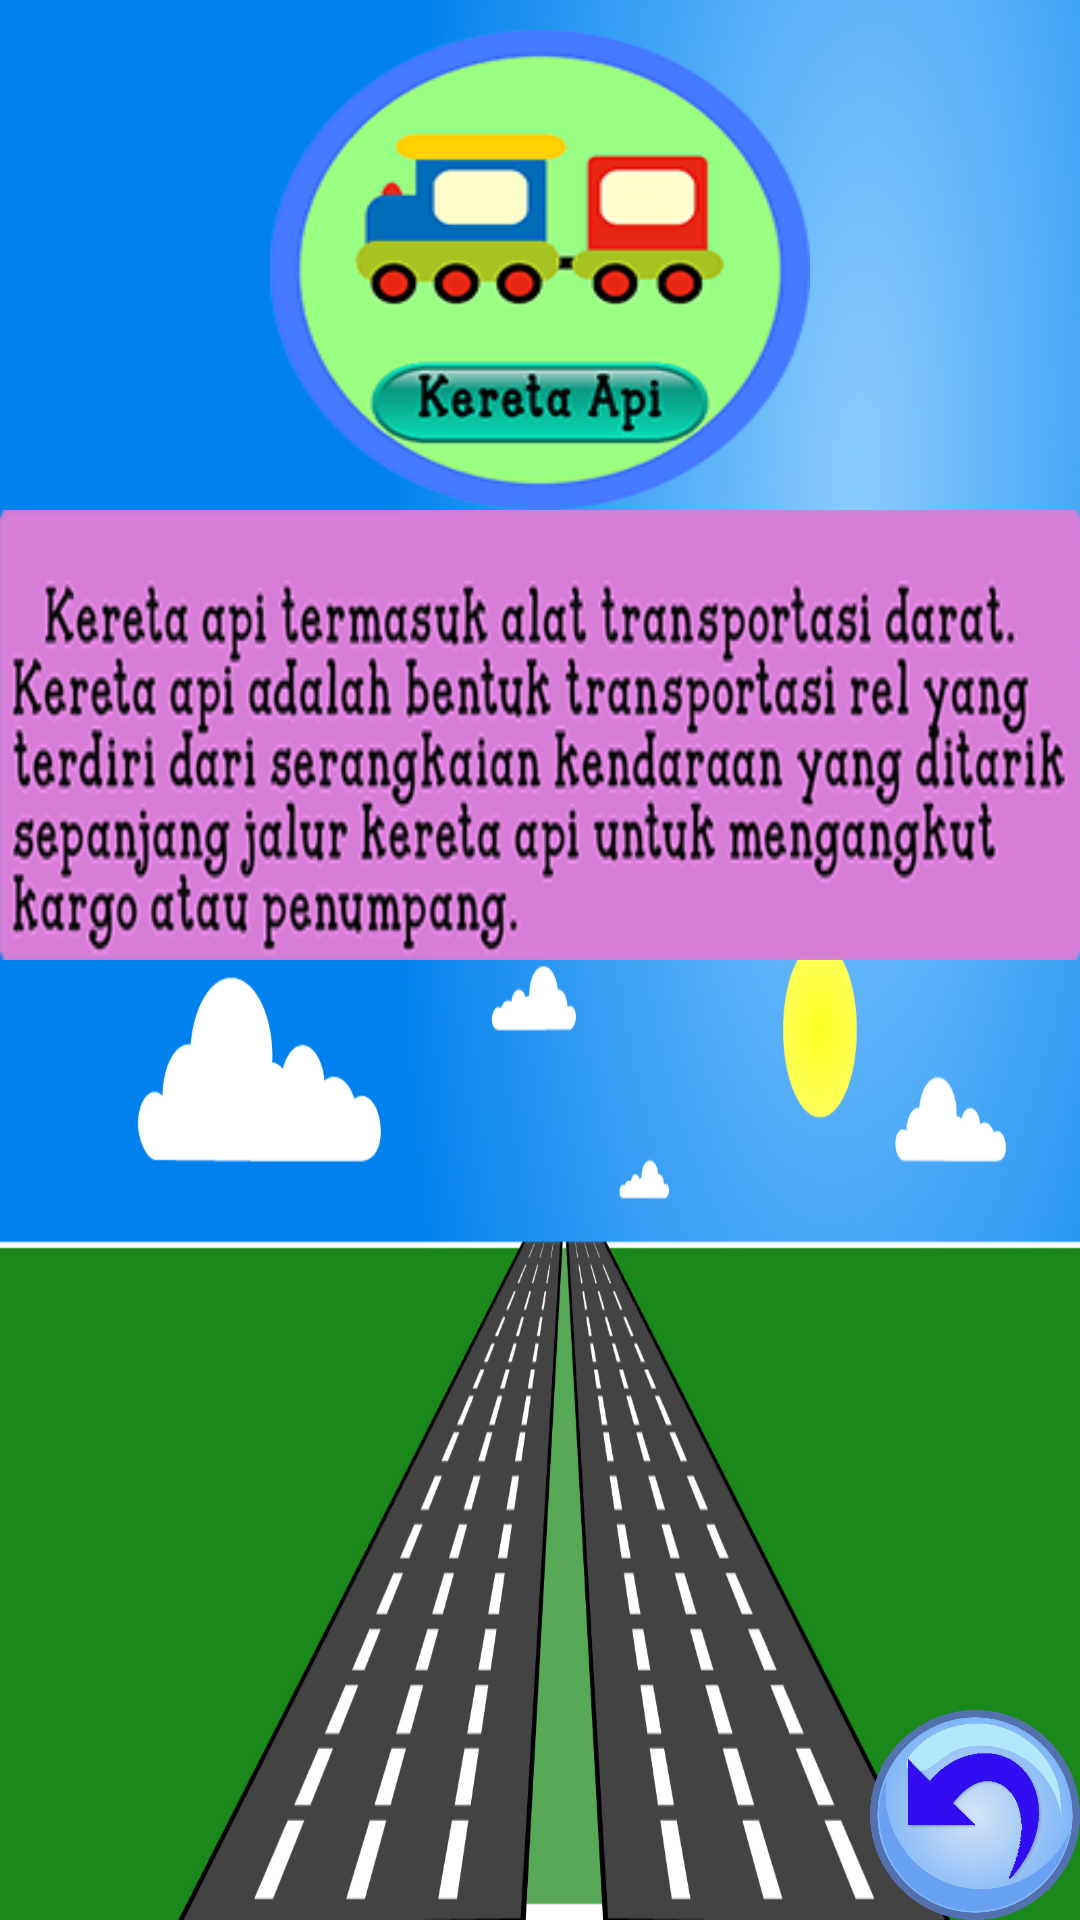

Named icons in this screenshot (1080w x 1920h) and their centers, (x,y):
back: (975,1815)
